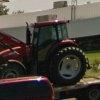Tractor: (8, 15, 95, 83)
